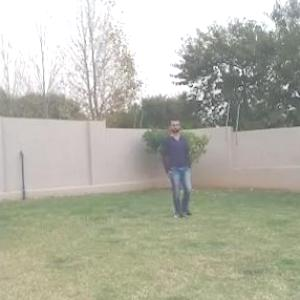follow: (167, 123, 192, 220)
